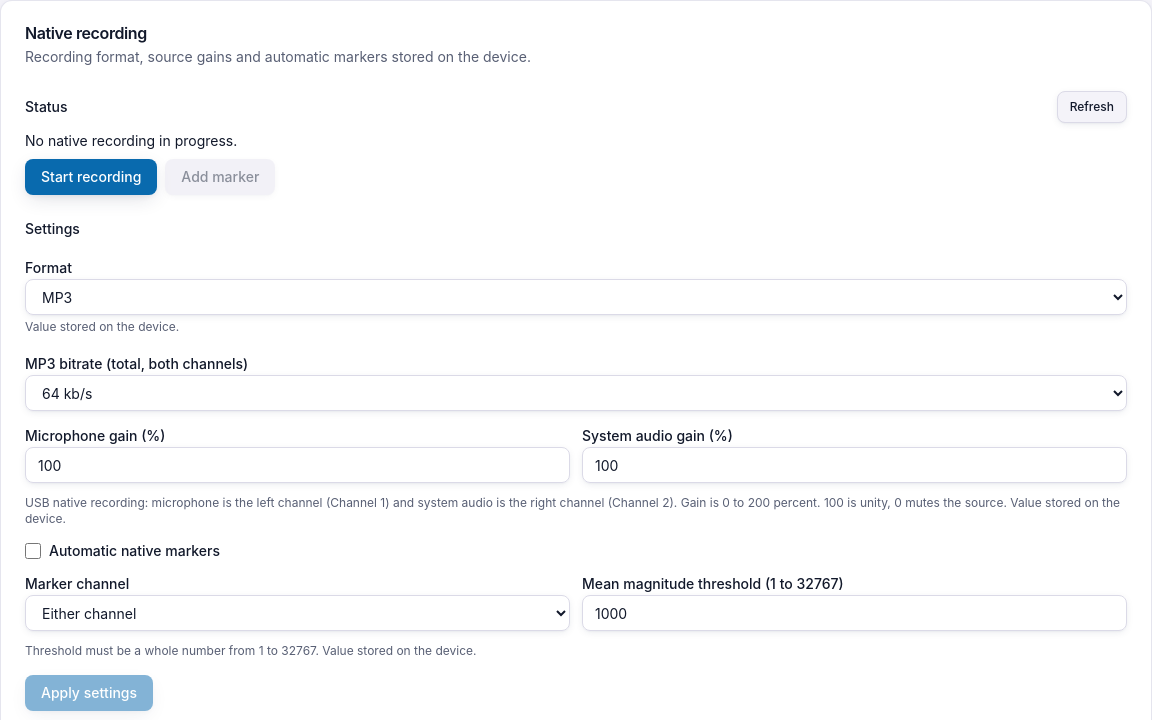
Test: DeviceNativeRecordingPanel failure behavior › does not accept a matching fallback readback as a saved setting
Expected: the text "No native recording in progress." is shown, [25, 132, 237, 149]
Select "WAV" in the dropdown with test id "native-format" at (576, 297), box [25, 279, 1127, 315]
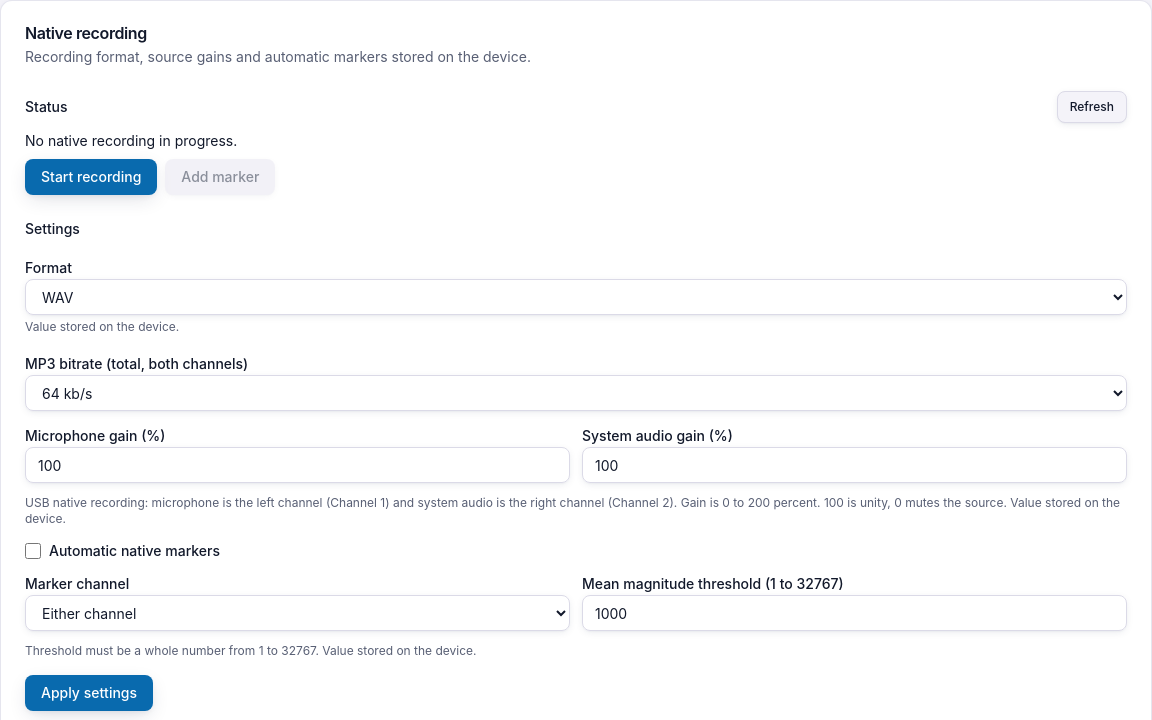
Click the button with test id "native-apply" at (89, 693), box [25, 675, 153, 711]
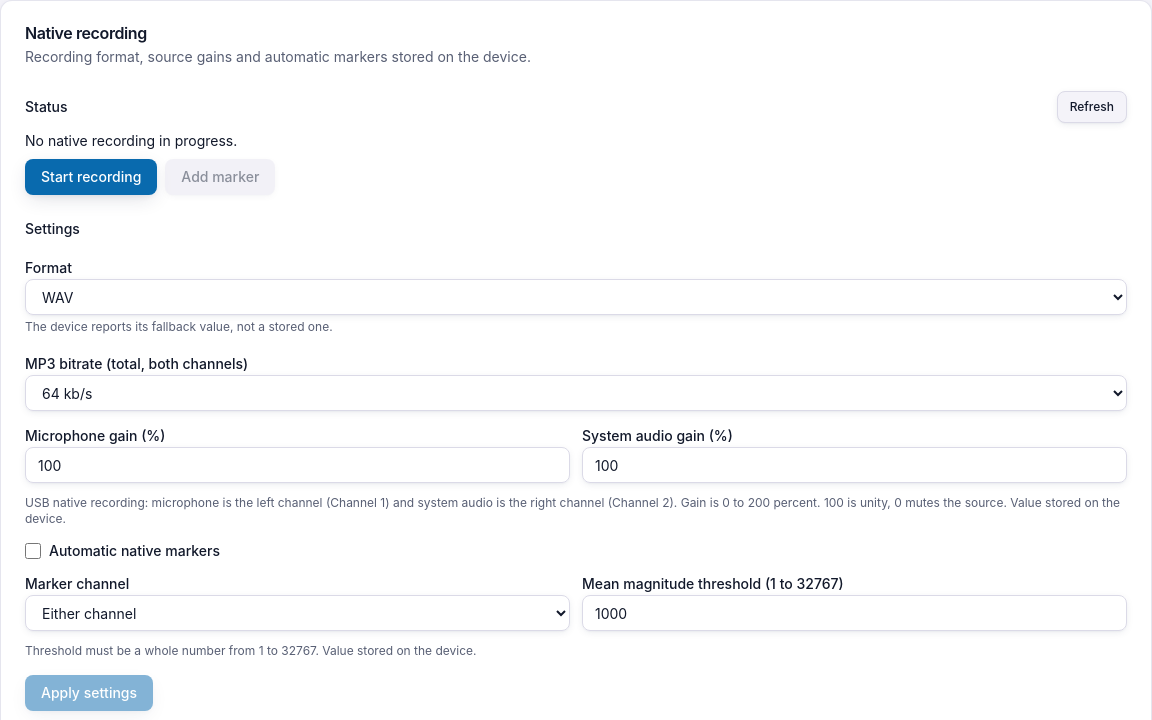
Result: the text "The device reports its fallback value, not a stored one." is shown at [25, 319, 333, 334]
